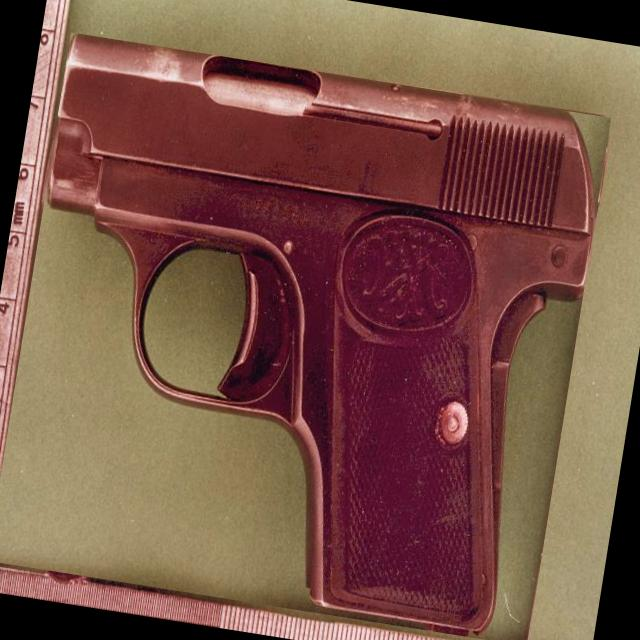Gun: (48, 35, 593, 636)
